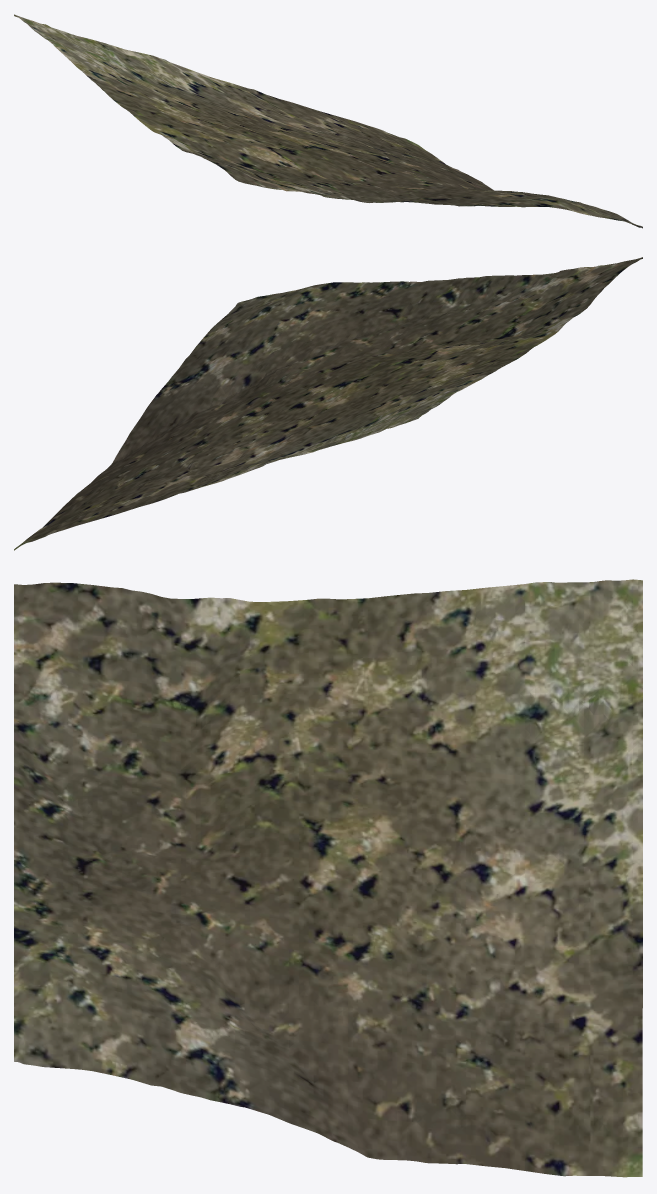
3 views of the same model, one above another, from view 1: azimuth 30°, elevation 25°; view 2: azimuth 150°, elevation 25°; view 3: azimuth 270°, elevation 25° (orthographic). The views are drawn at different scales.
Size of the model in its own units: 250 by 137 by 241.
1 material, 1 textured.
